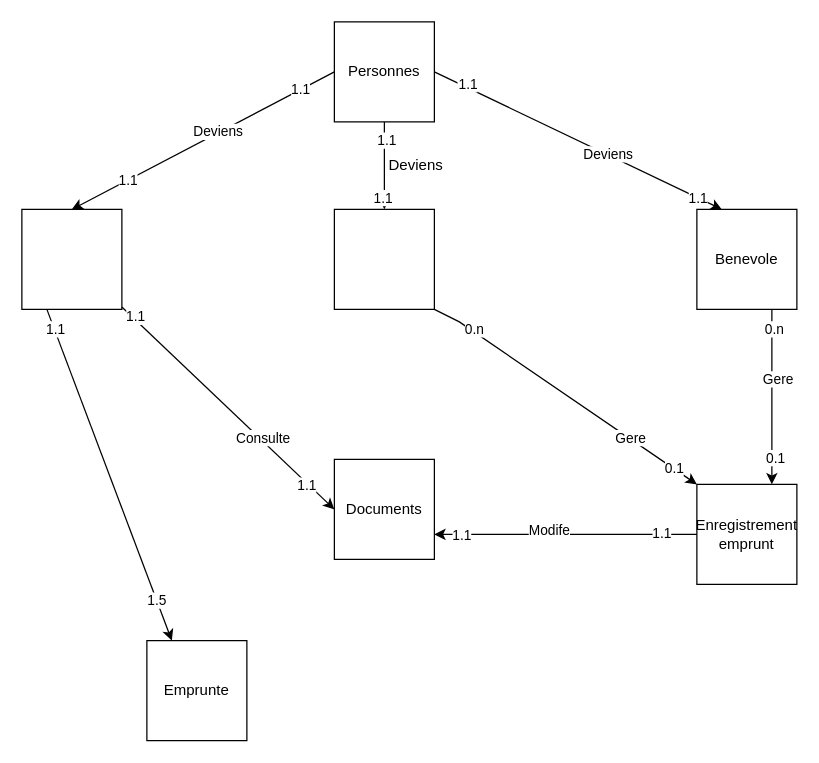
Some shapes in this 819 by 763 pixel diagram are drawn without their labels. The shapes that lost their labels are listed below. From the top down, each one's centre as x and y in pixels, then its label:
the point at 71,258: Client
the point at 383,258: Employer
